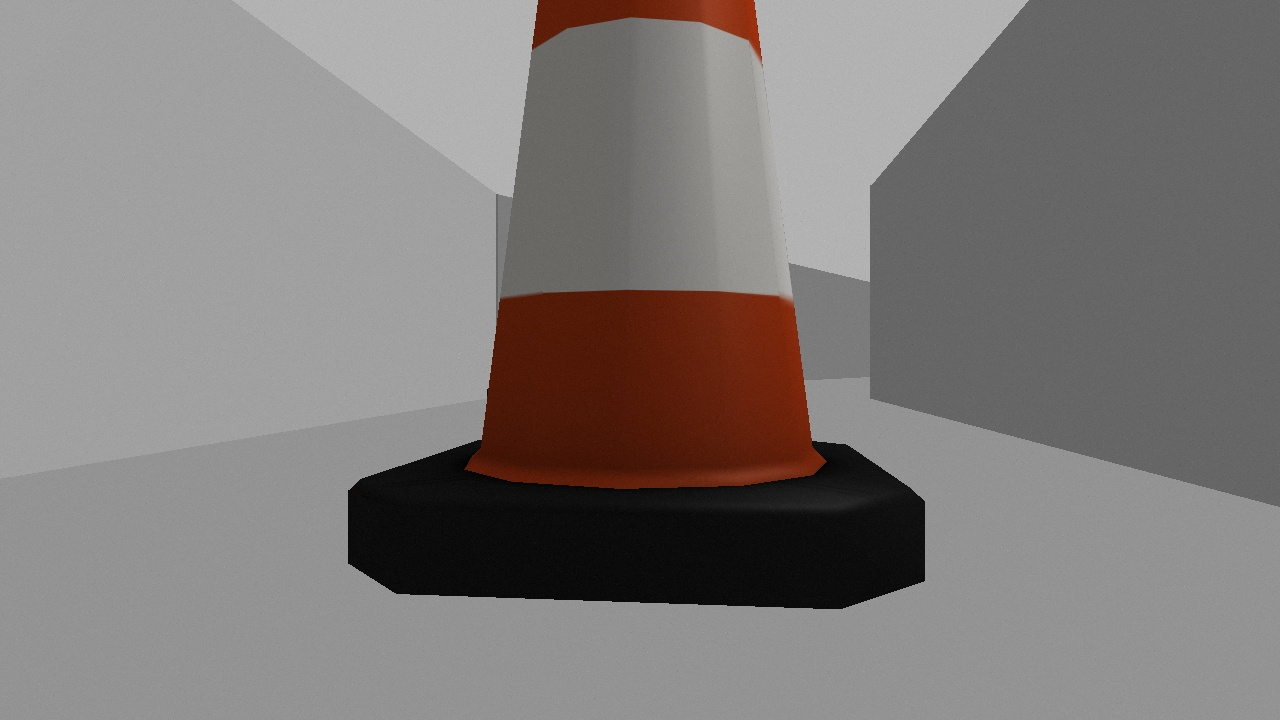barricade: (348, 1, 927, 611)
